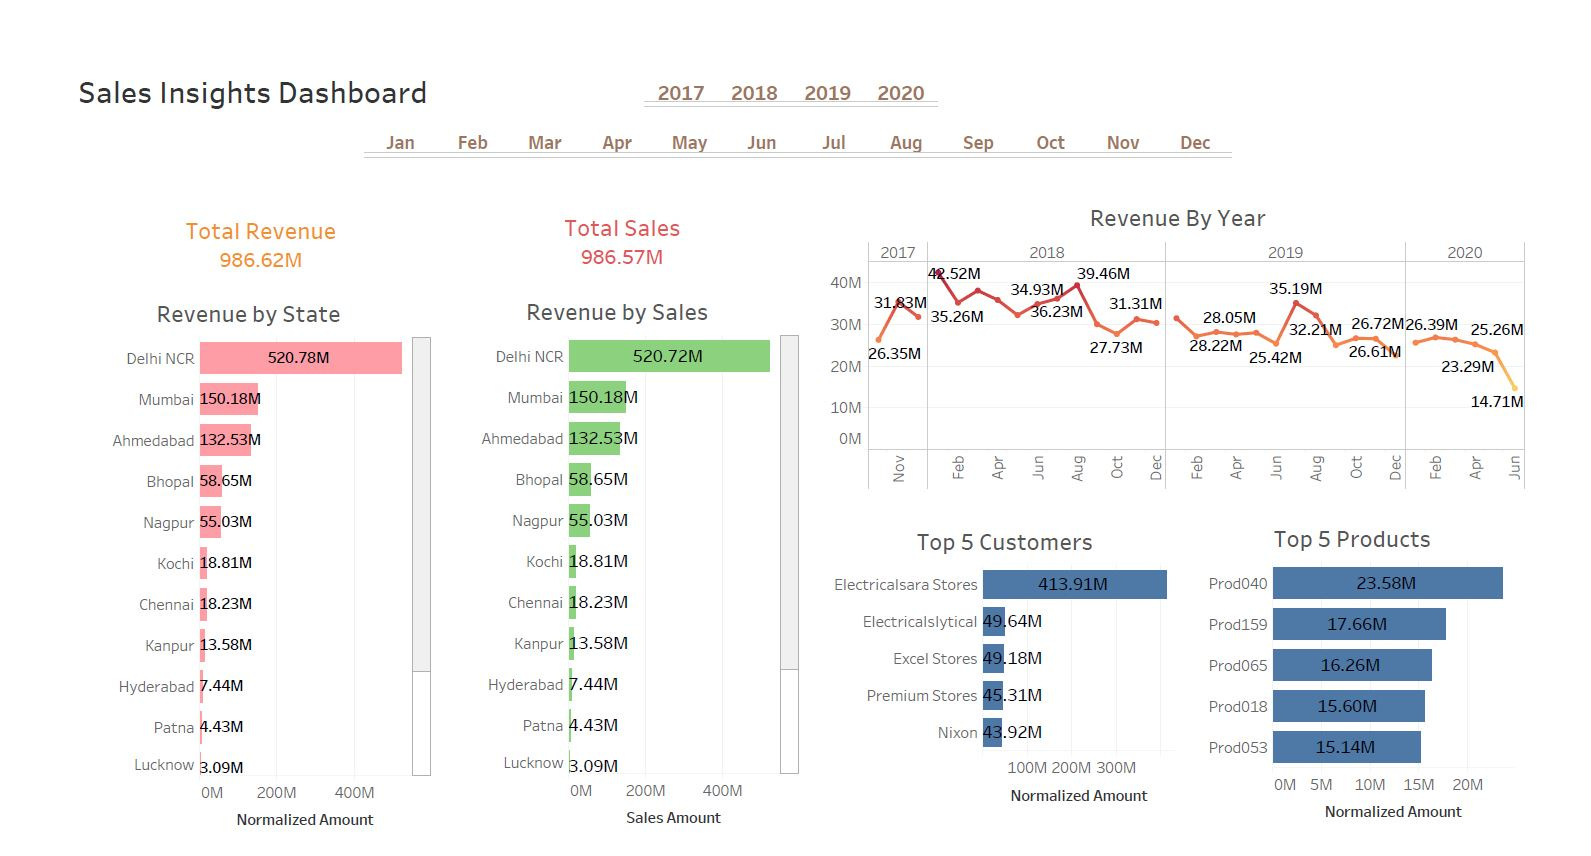

The page's visual inventory and layout, read from the dashboard file:
{"tool":"tableau","page":{"name":"Sales Insights Dashboard","canvas":[1500,850],"ordinal":0},"visuals":[{"type":"worksheet","box":[0,0,1500,850]},{"type":"worksheet","title":"Year","mark":"Automatic","cols":["cy_date"],"box":[595,7,309,49]},{"type":"worksheet","param":"vert","box":[8,8,1484,834]},{"type":"worksheet","box":[8,8,1484,49]},{"type":"worksheet","box":[8,57,1484,785]},{"type":"worksheet","title":"Month","mark":"Automatic","cols":["cy_date"],"box":[308,59,893,49]},{"type":"worksheet","title":"Revenue By Year","mark":"Automatic","rows":["Calculation_593912242680508416"],"cols":["cy_date","cy_date"],"box":[785,140,712,300]},{"type":"worksheet","title":"Sales Amount","mark":"Automatic","box":[503,141,145,87]},{"type":"worksheet","title":"Revenue","mark":"Automatic","box":[113,144,181,85]},{"type":"worksheet","title":"Revenue by Sales","mark":"Automatic","rows":["markets_name"],"cols":["sales_amount"],"box":[401,236,353,558]},{"type":"worksheet","title":"Revenue by State","mark":"Automatic","rows":["markets_name"],"cols":["Calculation_593912242680508416"],"box":[23,238,354,558]},{"type":"worksheet","title":"Top 5 Products","mark":"Automatic","rows":["product_code (products)"],"cols":["Calculation_593912242680508416"],"box":[1154,468,332,347]},{"type":"worksheet","title":"Top 5 Customers","mark":"Automatic","rows":["custmer_name"],"cols":["Calculation_593912242680508416"],"box":[789,471,350,340]}]}

Visuals, with their boxes on the page's 1500x850 design canvas (x1, y1, x2, y2). These are canvas units, not pixel positions in the 1591x856 screenshot, which may show the page scaled, cropped or inside an application window:
worksheet: <region>0, 0, 1500, 850</region>
"Year" worksheet: <region>595, 7, 904, 56</region>
worksheet: <region>8, 8, 1492, 842</region>
worksheet: <region>8, 8, 1492, 57</region>
worksheet: <region>8, 57, 1492, 842</region>
"Month" worksheet: <region>308, 59, 1201, 108</region>
"Revenue By Year" worksheet: <region>785, 140, 1497, 440</region>
"Sales Amount" worksheet: <region>503, 141, 648, 228</region>
"Revenue" worksheet: <region>113, 144, 294, 229</region>
"Revenue by Sales" worksheet: <region>401, 236, 754, 794</region>
"Revenue by State" worksheet: <region>23, 238, 377, 796</region>
"Top 5 Products" worksheet: <region>1154, 468, 1486, 815</region>
"Top 5 Customers" worksheet: <region>789, 471, 1139, 811</region>
